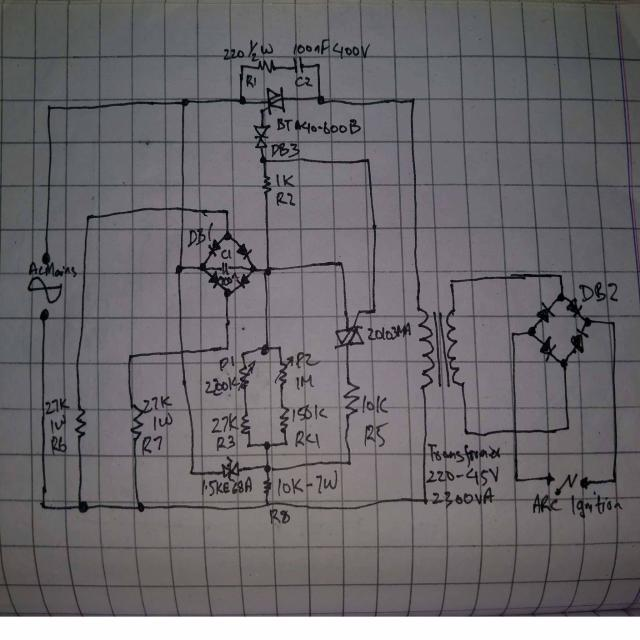capacitor: (291, 55, 305, 75), (220, 260, 230, 276)
crossover: (509, 422, 522, 441), (175, 344, 188, 361), (176, 201, 189, 218)
diode: (220, 454, 240, 484), (569, 326, 589, 354), (252, 123, 272, 150), (539, 335, 557, 363), (535, 300, 556, 324), (565, 296, 583, 317), (206, 237, 221, 257), (208, 269, 221, 290), (235, 272, 251, 289), (237, 242, 252, 260)
junction: (77, 499, 88, 514), (223, 229, 233, 242), (198, 260, 208, 273), (84, 211, 94, 224), (125, 349, 135, 362), (222, 341, 232, 354), (262, 460, 272, 473), (261, 439, 271, 452), (244, 438, 254, 451), (260, 343, 270, 356), (238, 349, 248, 362), (355, 305, 365, 318), (335, 257, 345, 270), (362, 154, 372, 167), (447, 276, 457, 289), (420, 493, 430, 506), (511, 472, 521, 485), (559, 358, 569, 371), (609, 472, 619, 485), (180, 96, 190, 108), (135, 500, 145, 512), (344, 456, 354, 468), (369, 304, 379, 316), (315, 94, 325, 106), (313, 58, 323, 70), (562, 422, 572, 434), (526, 325, 536, 337), (608, 317, 618, 329), (264, 263, 273, 276), (223, 285, 232, 298), (39, 499, 48, 512), (187, 465, 196, 478), (275, 341, 284, 354), (238, 94, 247, 107), (508, 328, 517, 341), (558, 291, 567, 304), (556, 269, 565, 282), (583, 314, 592, 327), (259, 154, 268, 167), (44, 102, 53, 114), (222, 205, 231, 217), (175, 262, 184, 274), (249, 261, 258, 273), (281, 437, 290, 449), (262, 497, 271, 509), (408, 94, 417, 106), (238, 61, 247, 73), (461, 426, 470, 438), (258, 106, 266, 117)
resistor: (342, 377, 360, 420), (274, 355, 295, 388), (128, 402, 146, 439), (238, 359, 257, 391), (74, 404, 88, 442), (256, 56, 278, 75), (278, 403, 290, 435), (259, 171, 272, 197), (239, 411, 250, 438), (262, 475, 272, 497)
terminal: (579, 474, 590, 493), (38, 306, 50, 323), (545, 469, 556, 486), (40, 251, 51, 267)
text: (426, 442, 502, 508), (531, 492, 623, 518), (141, 395, 173, 457), (293, 36, 370, 60), (275, 114, 361, 135), (277, 469, 339, 494), (46, 397, 70, 456), (222, 38, 272, 63), (200, 475, 252, 497), (211, 412, 239, 450), (27, 260, 77, 280), (580, 279, 619, 304), (367, 320, 411, 342), (274, 172, 297, 208), (187, 220, 214, 250), (205, 375, 239, 398), (364, 420, 389, 450), (291, 403, 328, 423), (295, 426, 321, 451), (361, 391, 388, 415), (271, 140, 299, 162), (295, 349, 320, 368), (268, 508, 292, 525), (218, 271, 239, 288), (218, 354, 235, 373), (296, 373, 314, 390), (294, 74, 314, 88), (245, 73, 258, 89), (220, 248, 232, 260)
thyristor: (333, 321, 367, 351), (262, 85, 286, 116)
transformer: (415, 304, 466, 390)
